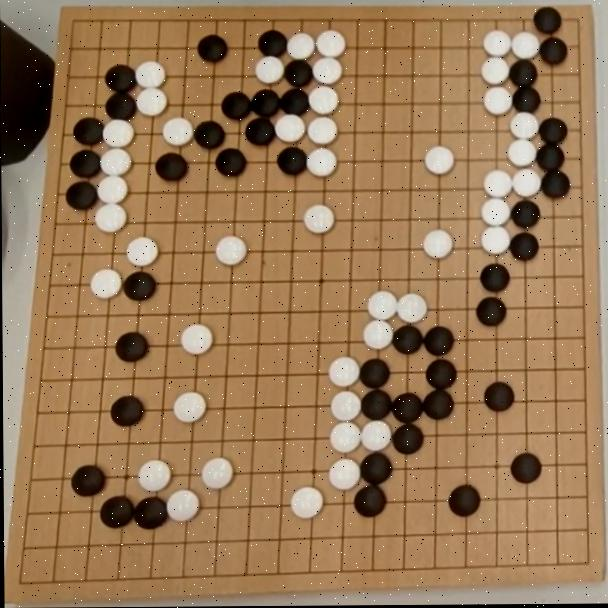corners: (564, 539, 604, 588), (5, 553, 40, 603), (558, 3, 595, 39), (60, 9, 89, 44)
